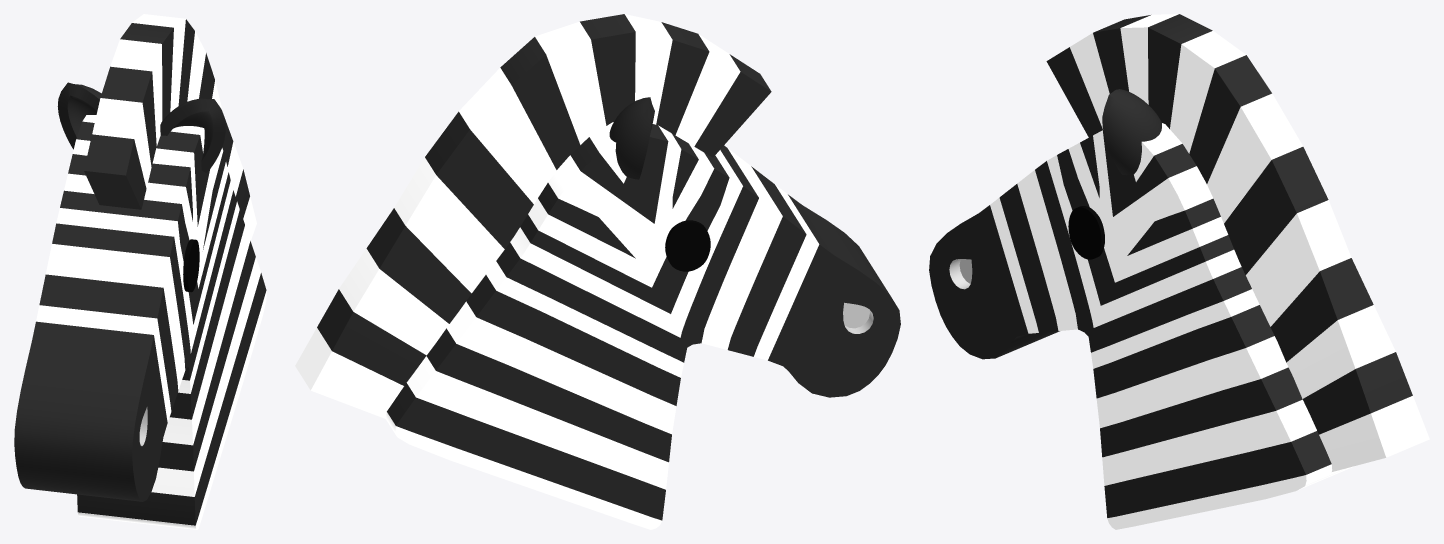
File: zebra.gltf
3 renders of one model, left to right at view 1: azimuth 30°, elevation 25°; view 2: azimuth 150°, elevation 25°; view 3: azimuth 270°, elevation 25°, orthographic. The views are drawn at different scales.
Visible parts, largest first — view 1: Plane.114, Cube.6216, Cube.778, Circle.1882; view 2: Plane.114, Cube.6216, Cube.778, Circle.1882; view 3: Plane.114, Cube.6216, Cube.778, Circle.1882.
Part boxes in pixels (x1,y1,x2,y2): Plane.114: [14, 115, 266, 529]; Cube.6216: [84, 14, 256, 240]; Cube.778: [57, 82, 225, 172]; Circle.1882: [183, 239, 199, 292]; Plane.114: [386, 122, 900, 529]; Cube.6216: [295, 14, 771, 419]; Cube.778: [609, 97, 654, 179]; Circle.1882: [665, 220, 710, 271]; Plane.114: [929, 123, 1354, 529]; Cube.6216: [1046, 14, 1429, 471]; Cube.778: [1102, 89, 1161, 175]; Circle.1882: [1068, 206, 1104, 259].
Bounding box in the file's own units: 2.01 × 2.17 × 2.01.
1 material, 1 textured.
